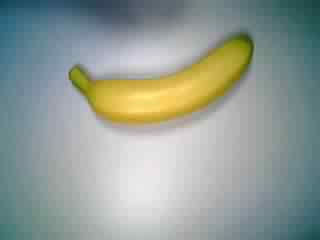banana: (67, 30, 262, 135)
